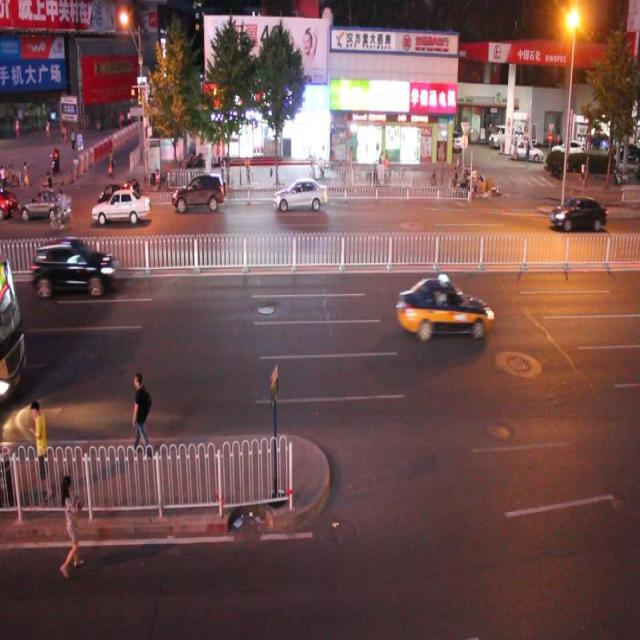car: (395, 274, 494, 338), (32, 240, 117, 293), (171, 168, 227, 214), (273, 173, 327, 215), (93, 188, 150, 223), (20, 186, 72, 224), (550, 194, 605, 229), (101, 180, 145, 223)
